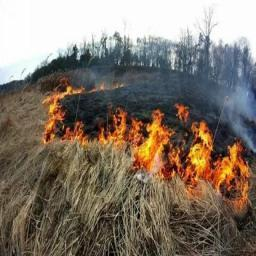Low smoke: (125, 13, 255, 161)
Medium fire: (36, 68, 255, 216)
